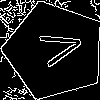V: (30, 25, 85, 70)
